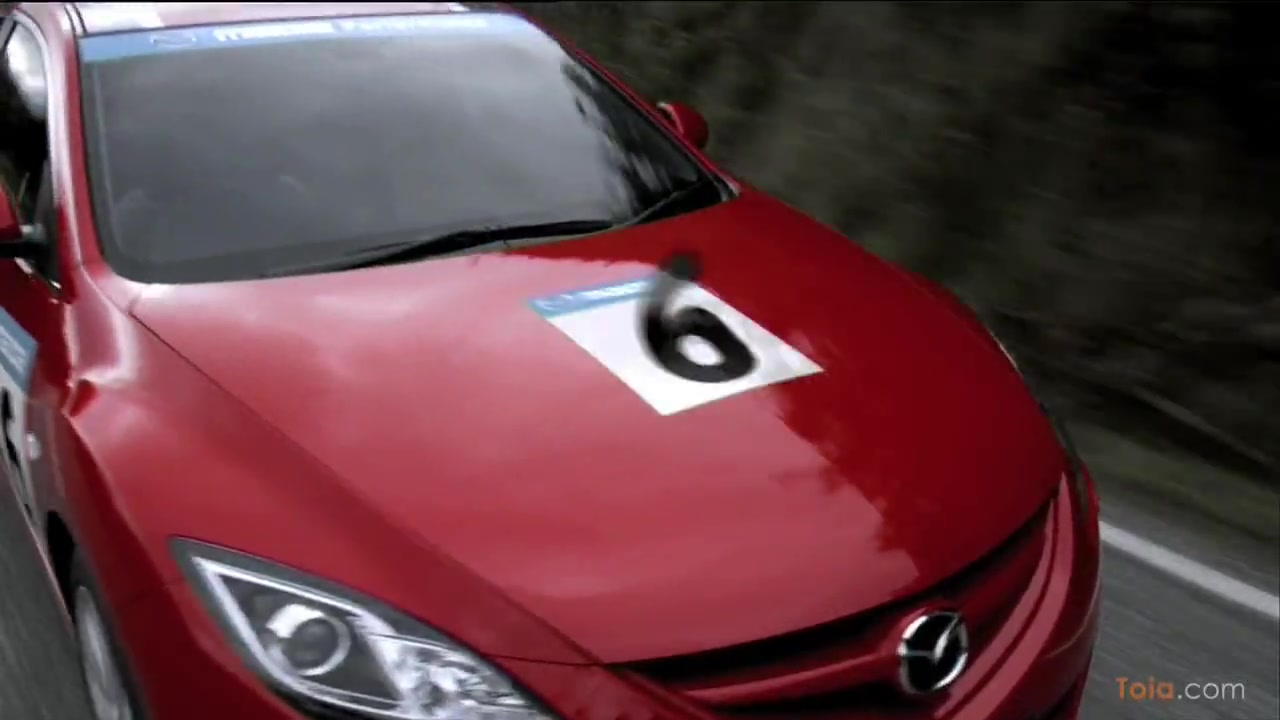car: (1, 5, 1105, 720)
